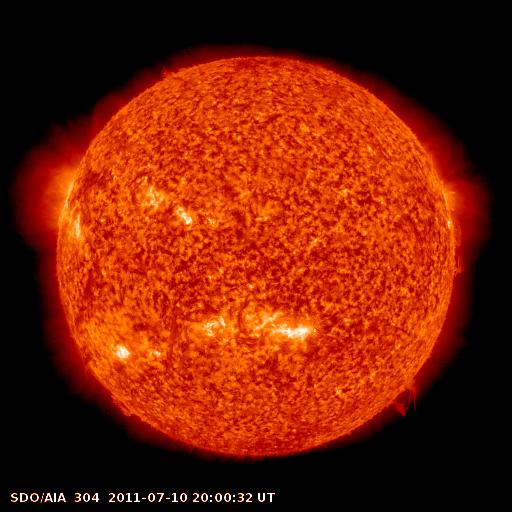prominence: (373, 368, 427, 425), (106, 391, 140, 424)
